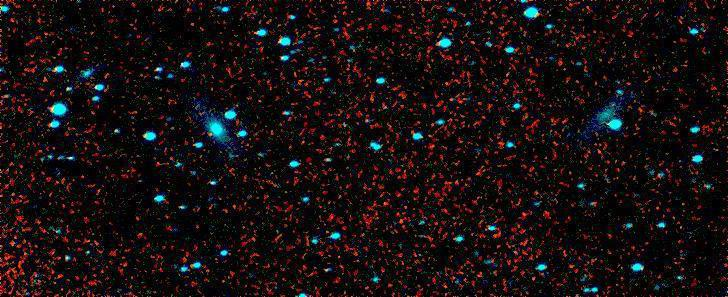star: (195, 119, 225, 149)
